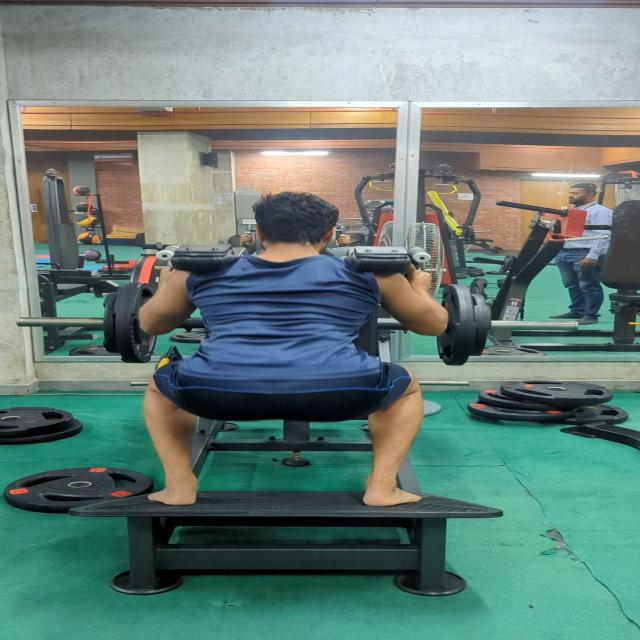Normal_SquatsWithBarbell: (111, 196, 460, 516)
